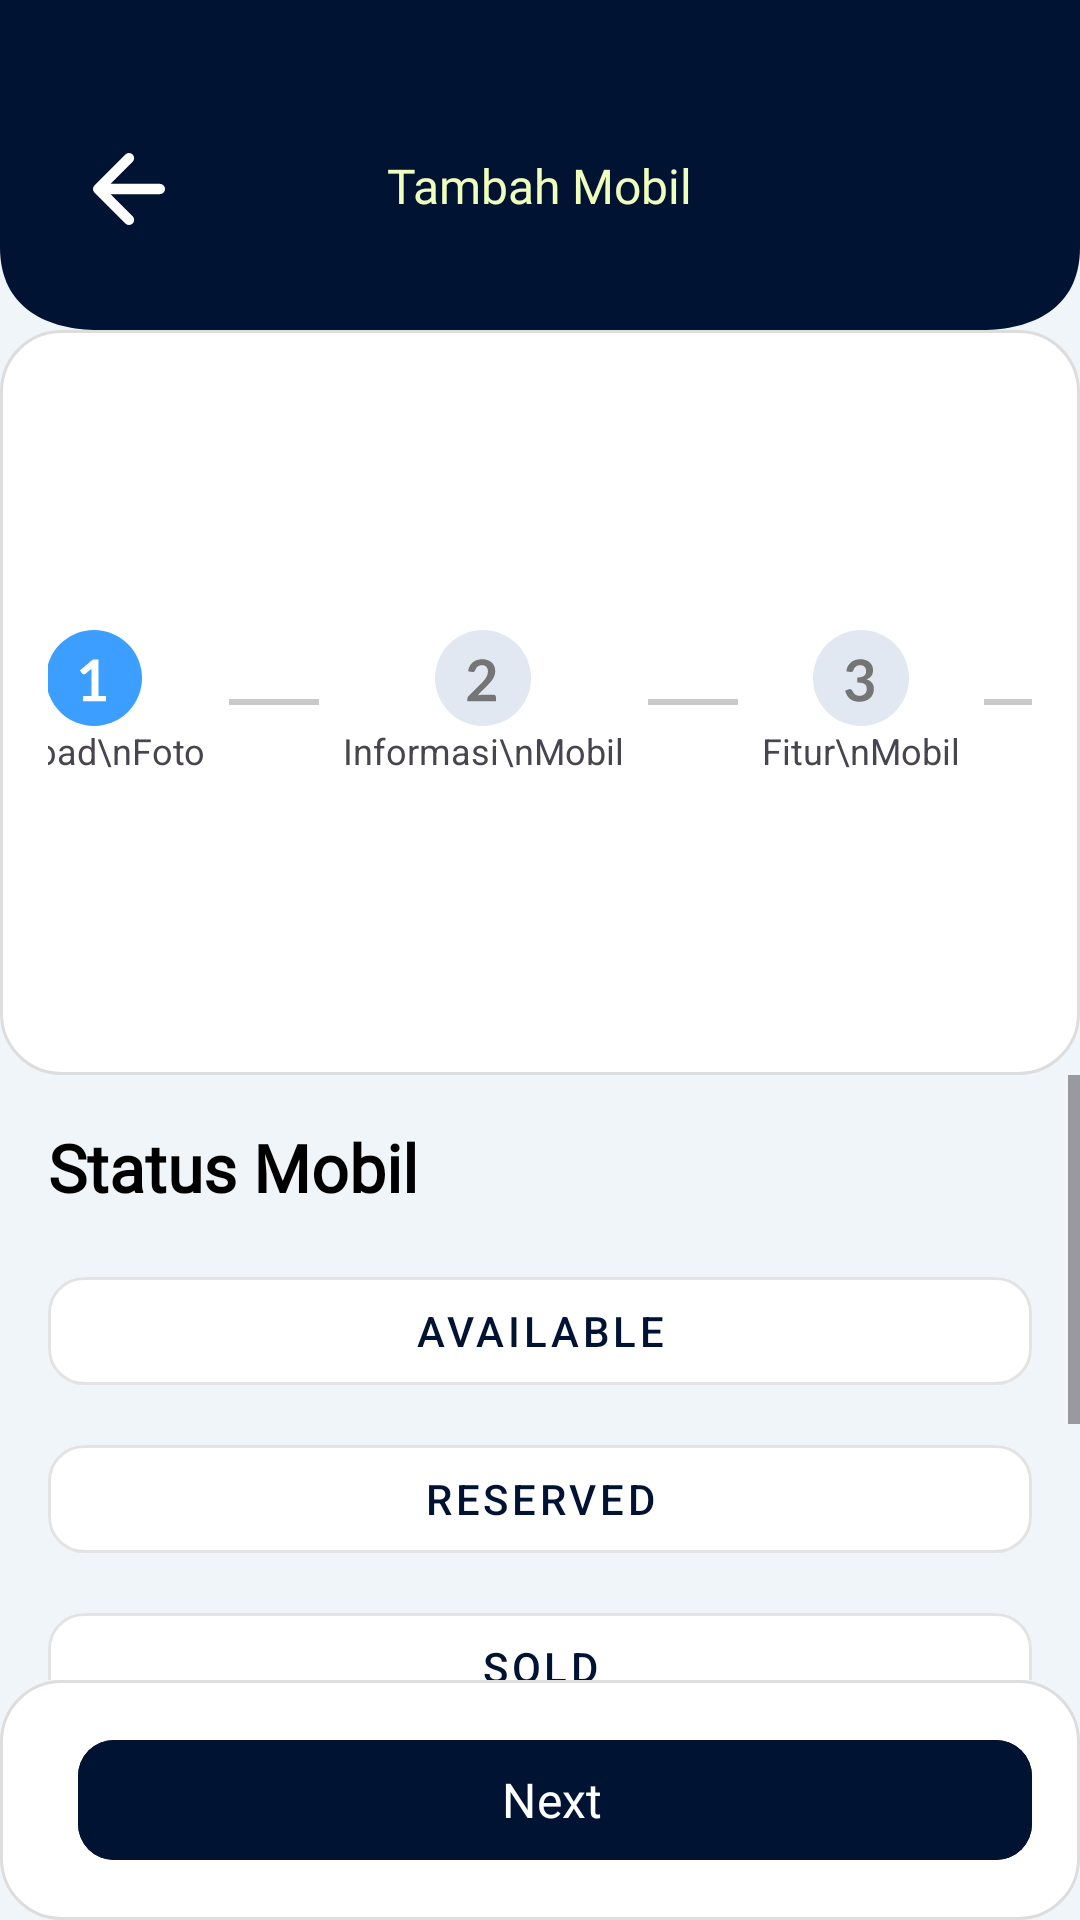

Icon bounding boxes for this 1080 x 1920 phone screenshot, format (x1, y1, x2, y2):
back: (93, 153, 165, 225)
